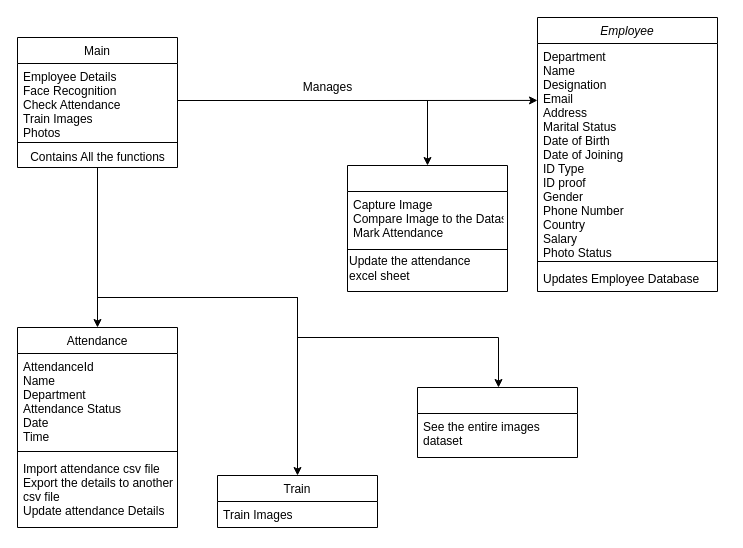
Image size: 743x548. Some labels were removed from this diagram. Here are the shapes that lost their labels. From the top down, the box of each, then its label:
(346, 164, 508, 292): Face_Recognition
(416, 386, 578, 458): Photos
